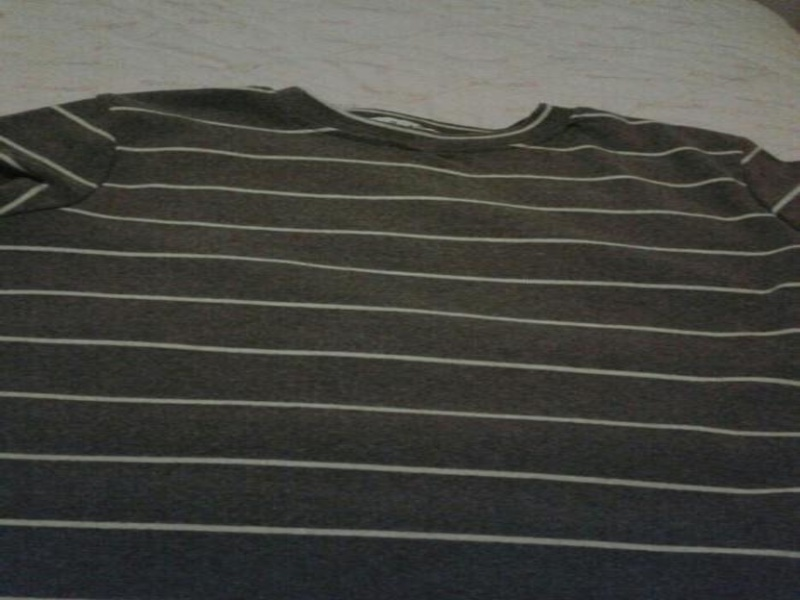short_sleeved_shirt: (0, 81, 797, 599)
